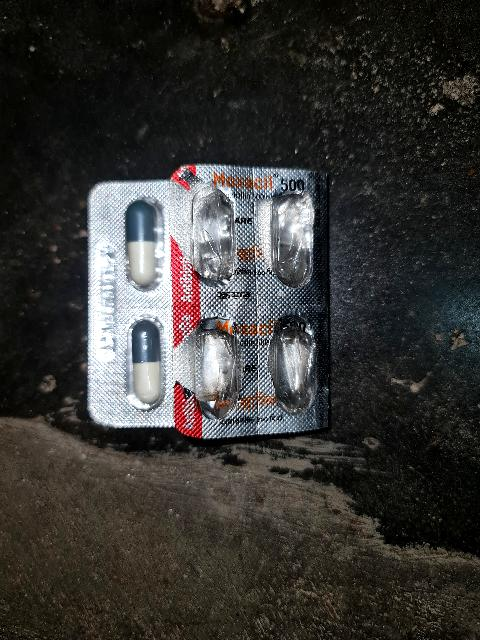medicine: (77, 161, 339, 441)
